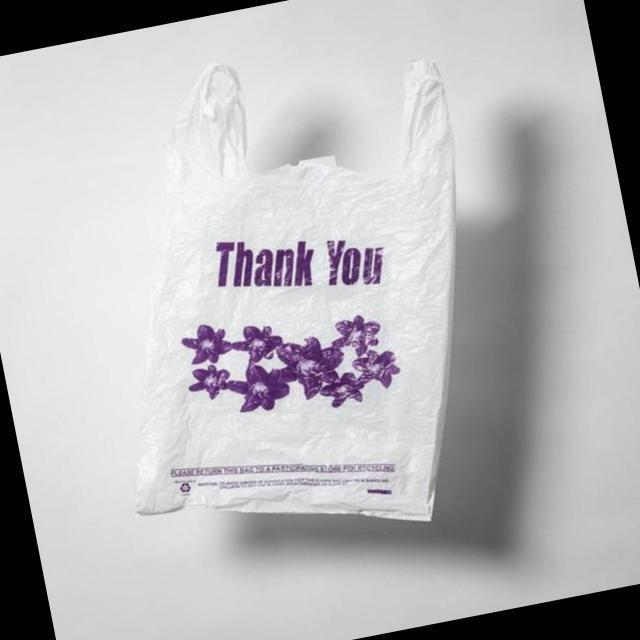Plastic_Bag: (66, 18, 532, 590)
